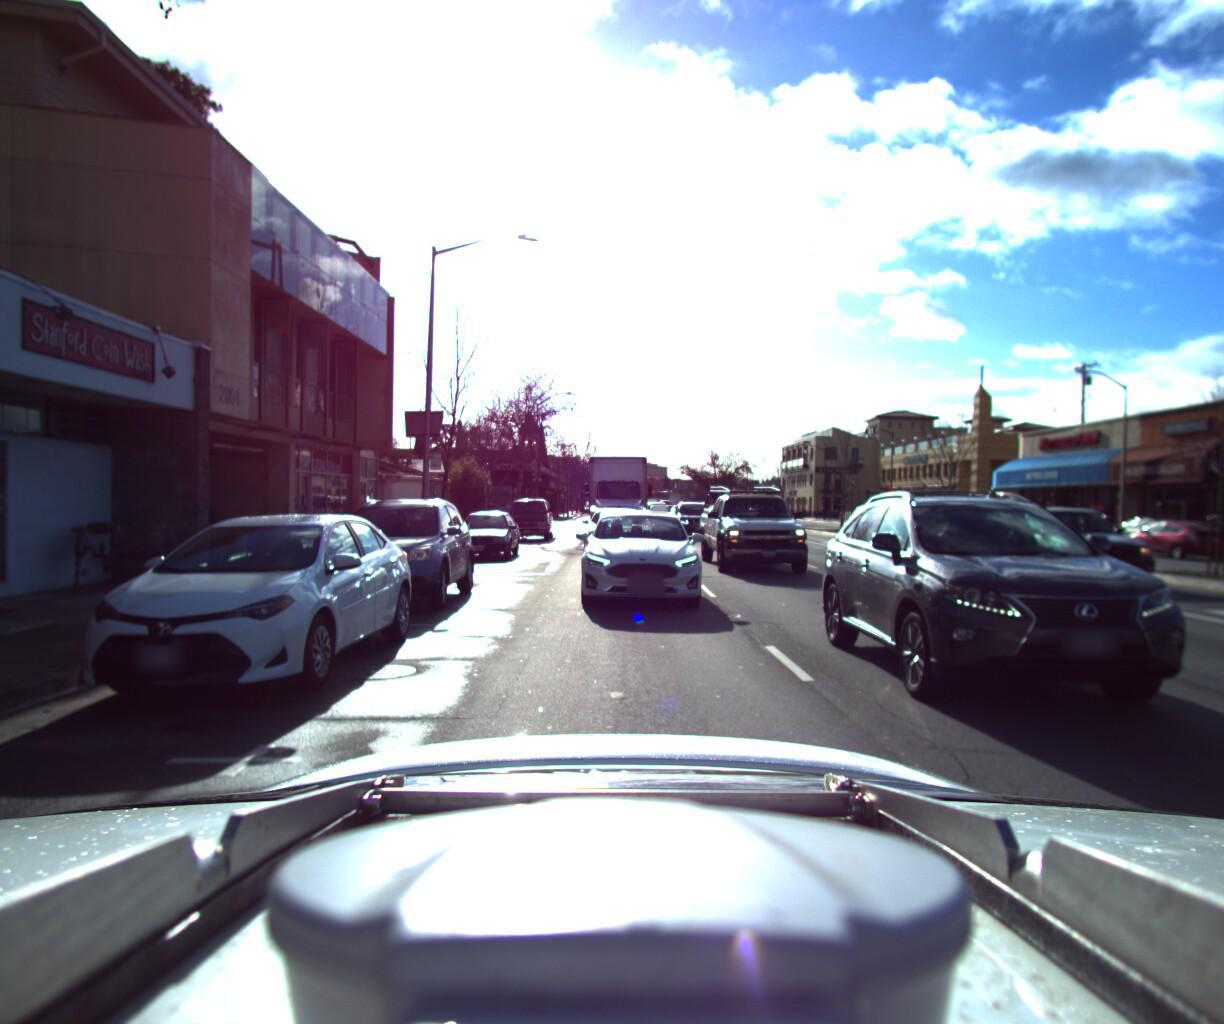car: (814, 467, 1224, 759), (35, 499, 427, 733), (294, 489, 482, 616), (977, 494, 1194, 588), (556, 501, 709, 619), (693, 474, 818, 576), (1108, 508, 1224, 556), (583, 500, 656, 560), (443, 503, 524, 556), (498, 490, 558, 537), (668, 495, 724, 534), (646, 498, 676, 520)
truck: (578, 447, 654, 539)
